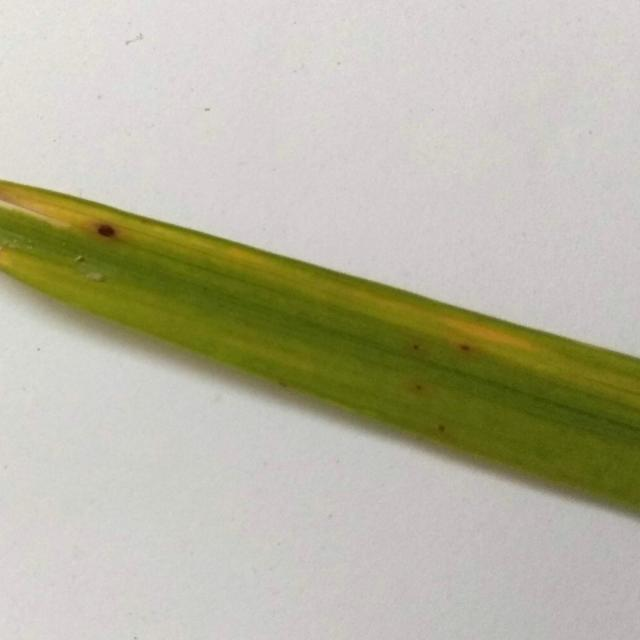Brown spot: (0, 180, 640, 520)
